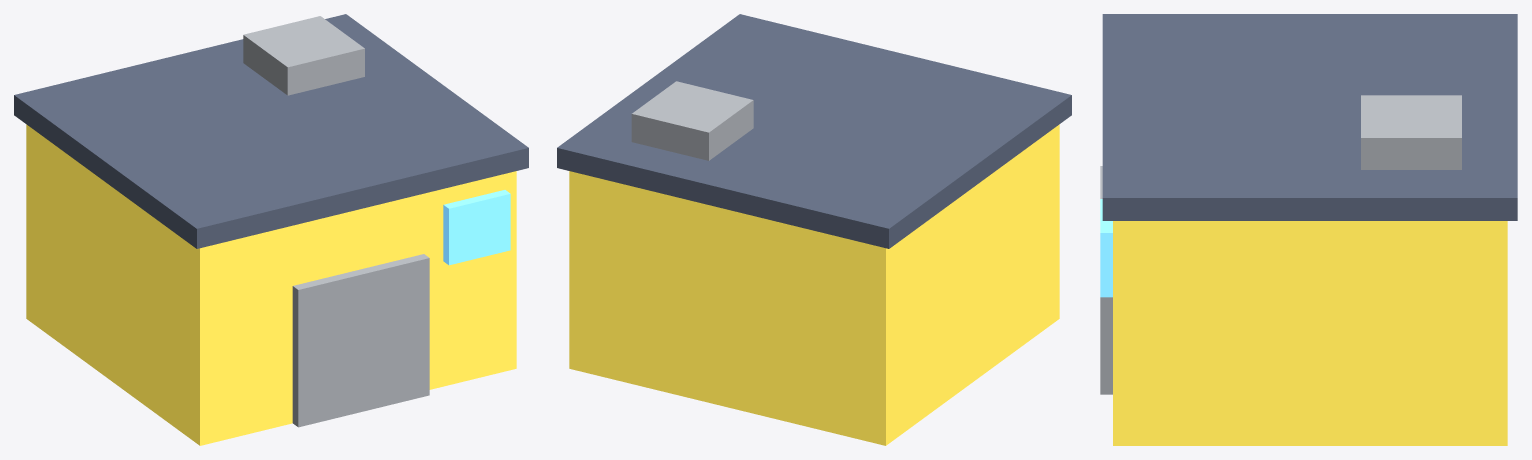
Rendered from industrial_1.glb.
The picture shows the model from 3 angles, left to right: view 1: azimuth 30°, elevation 25°; view 2: azimuth 150°, elevation 25°; view 3: azimuth 270°, elevation 25°; orthographic projection. The views are drawn at different scales.
Visible parts, largest first — view 1: industrial_1; view 2: industrial_1; view 3: industrial_1.
Part boxes in pixels (x1,y1,x2,y2): industrial_1: [14, 14, 528, 445]; industrial_1: [557, 14, 1071, 445]; industrial_1: [1100, 14, 1517, 445].
Bounding box in the file's own units: 0.86 × 0.62 × 0.825.
